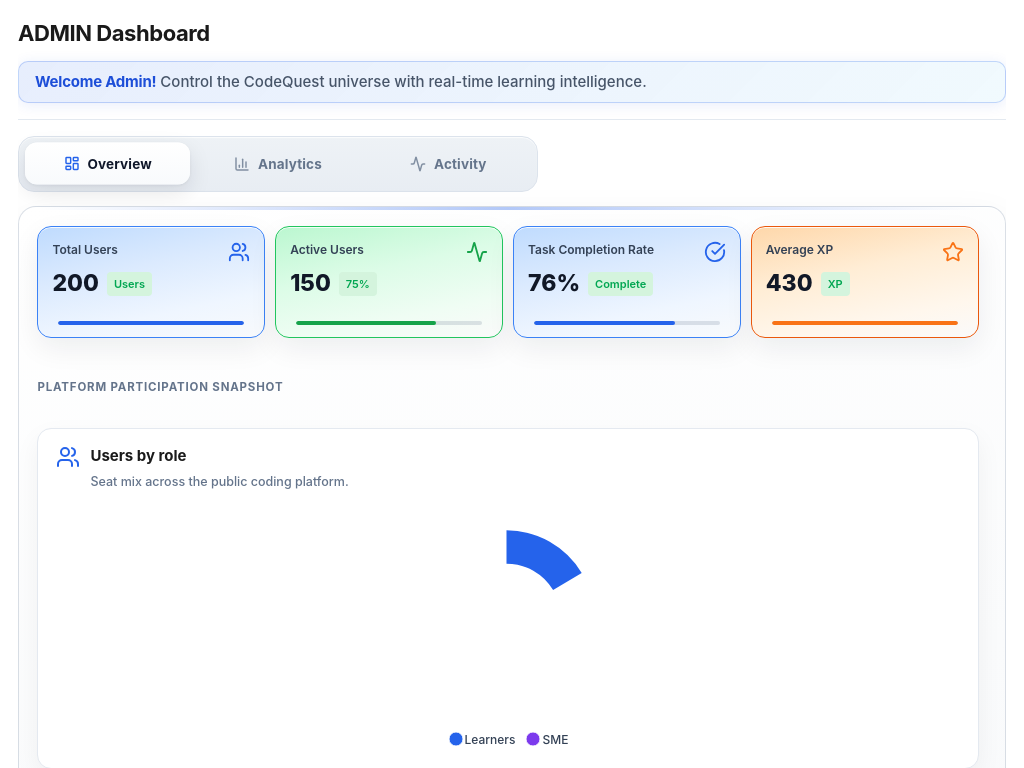
it: remaining admin and SME management parts › Dashboard deletes all activities only from the admin activity view
expect the heading "ADMIN Dashboard" is shown: met, box [18,20,210,46]
What coordinates should you click on to do the following:
click the tab "Activity"
I would click on:
 (448, 164)
Its box is [366,143,531,185].
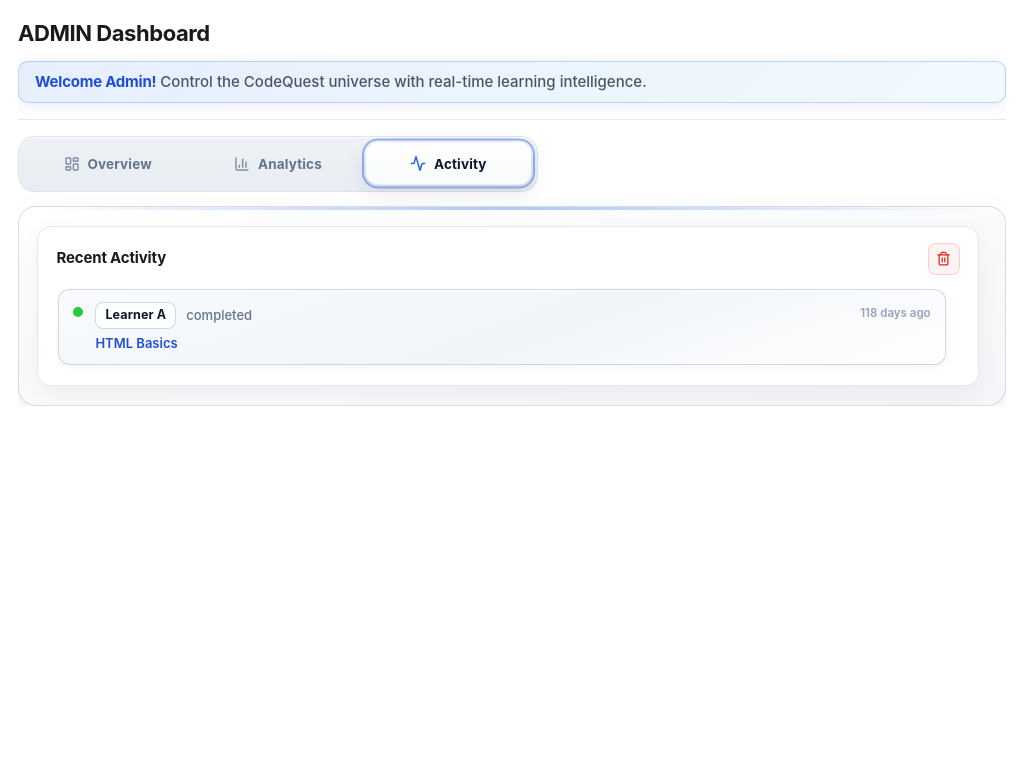
expect the text "Learner A" is shown: met, box [95,302,176,329]
What coordinates should you click on to do the following:
click the button named "delete all recent activities"
I would click on:
 (944, 259)
Its box is [928,243,960,275].
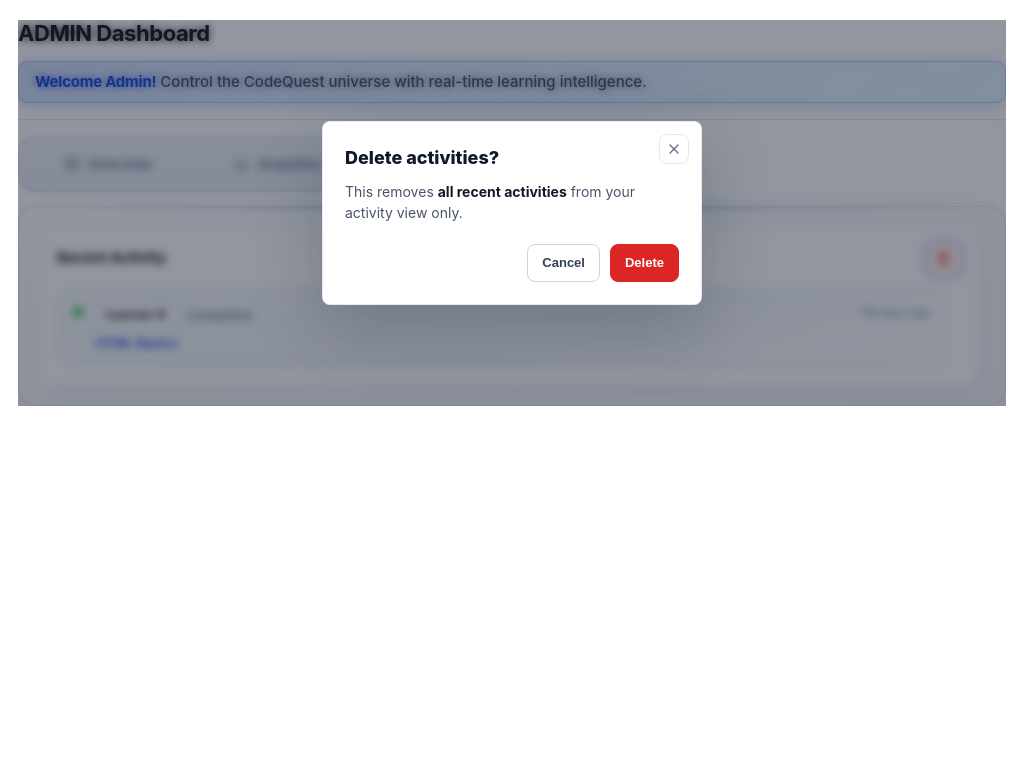
expect the dialog "Delete activities" is shown: met, box [18,20,1006,406]
What coordinates should you click on to do the following:
click the button "Delete"
I would click on:
 (644, 263)
Its box is [610,244,679,282].
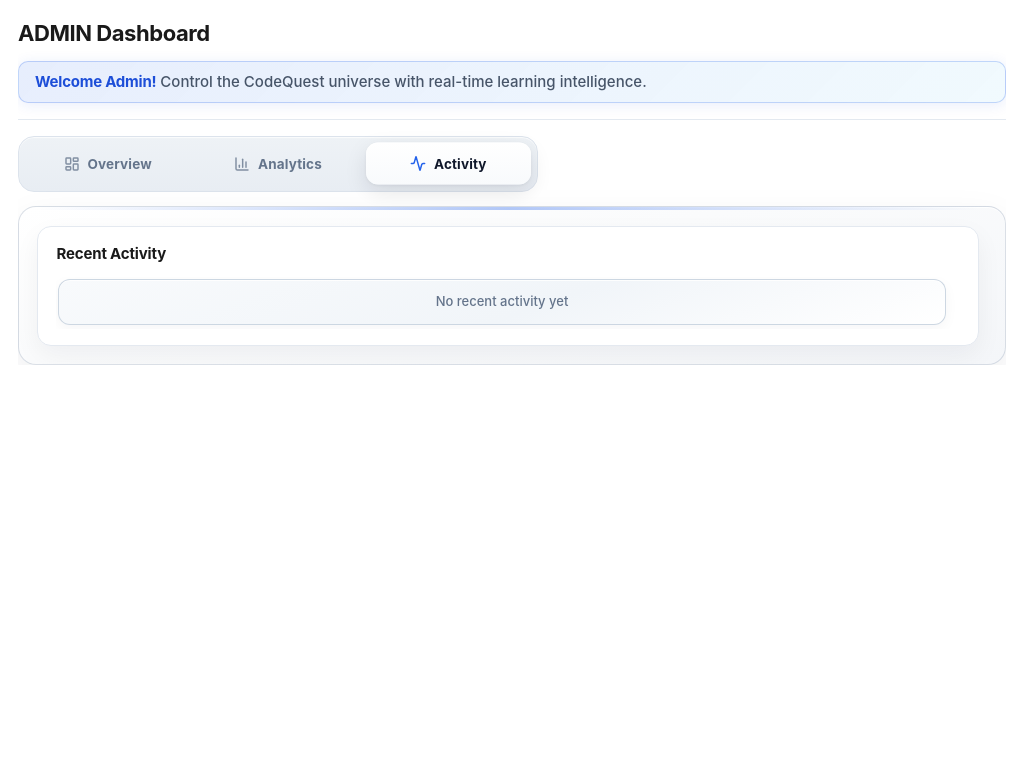
expect the text "Learner A" is gone: met
expect the text "No recent activity yet" is shown: met, box [436,292,568,312]
